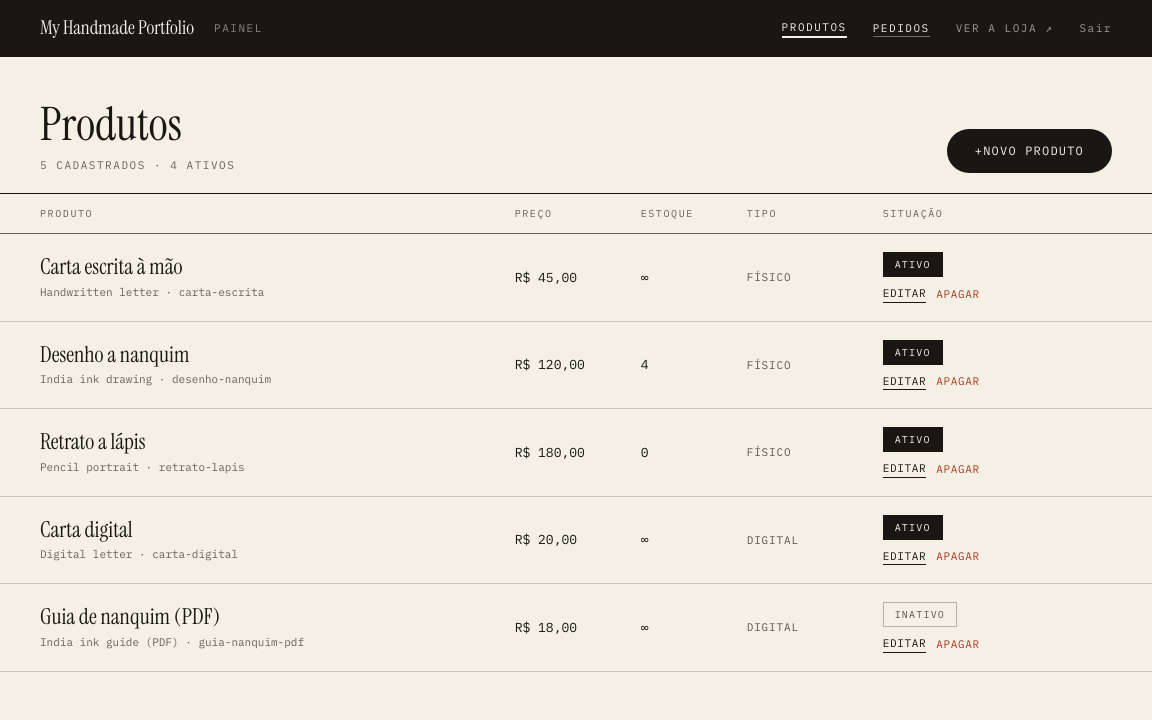
Scenario: AdminShellContainer · the session guard › ends the session when a 401 comes back out of a MUTATION
What coordinates should you click on to do the following:
click the switch named "Carta escrita à mão Ativo"
I would click on:
 (913, 265)
Its box is [883, 252, 943, 277].
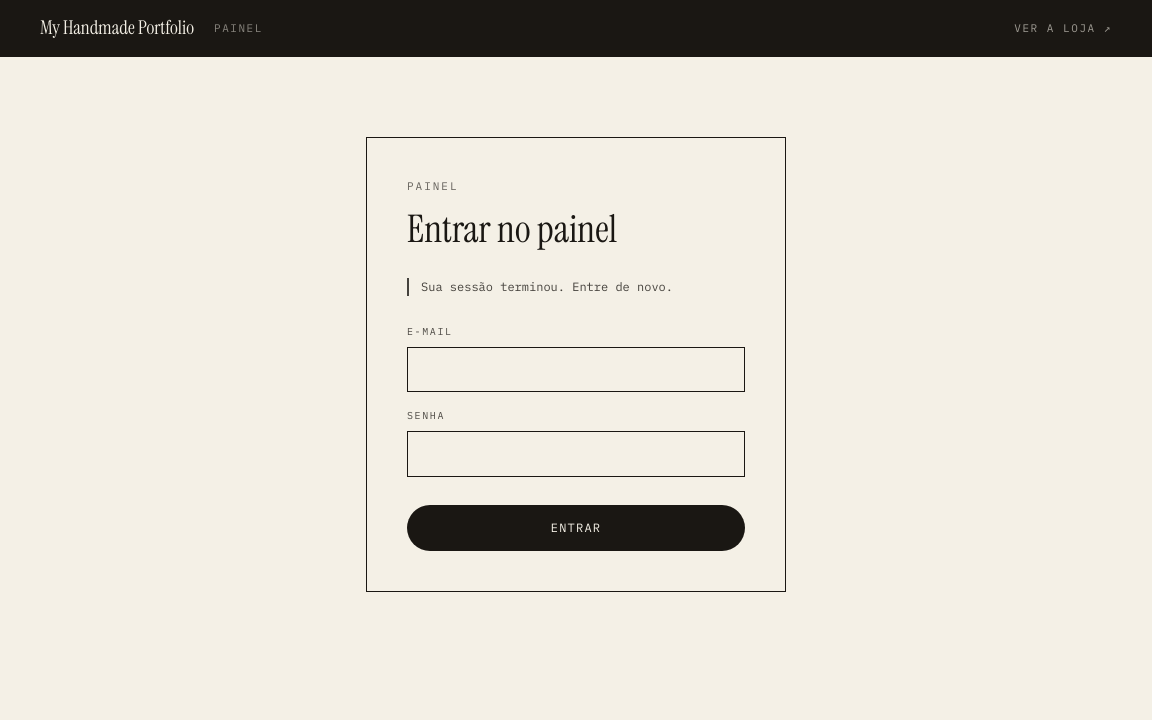
Check: the heading "Entrar no painel" is shown, box [407, 204, 617, 254]
